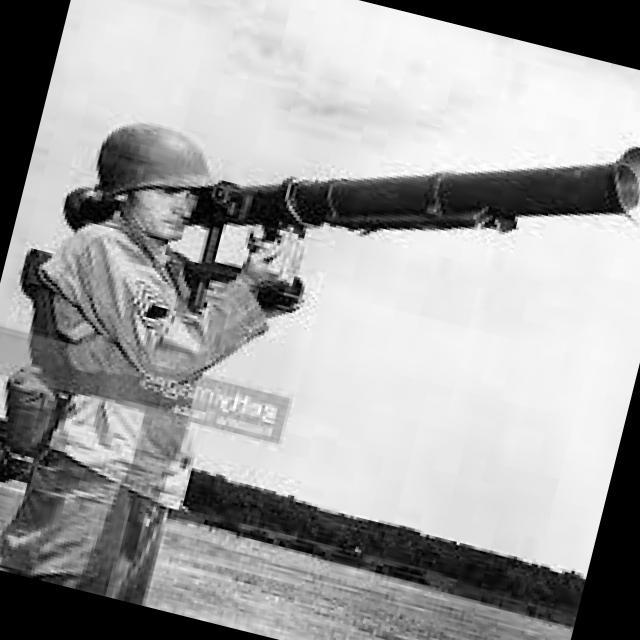rocket: (56, 9, 640, 364)
